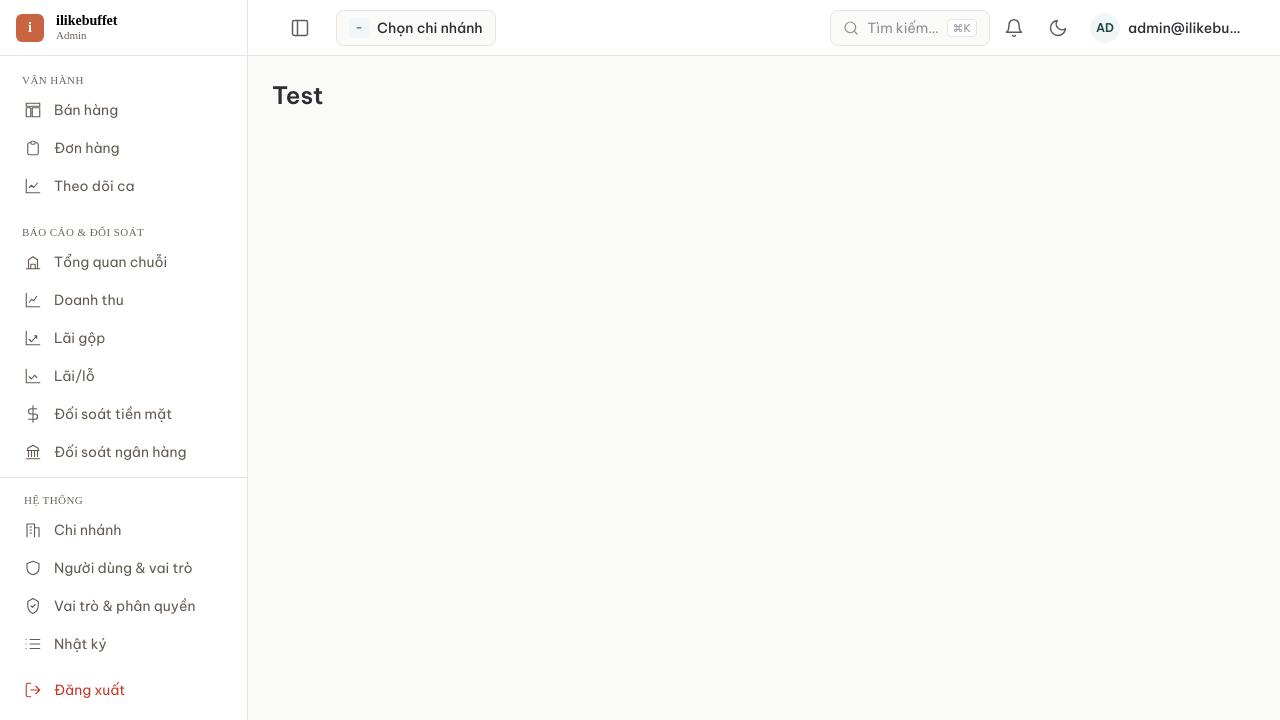
it: Notifications bell › closes on Esc
This screenshot has width=1280, height=720.
Step 1. Click the button named "Thông báo" → (1014, 28), box [994,8,1034,48]
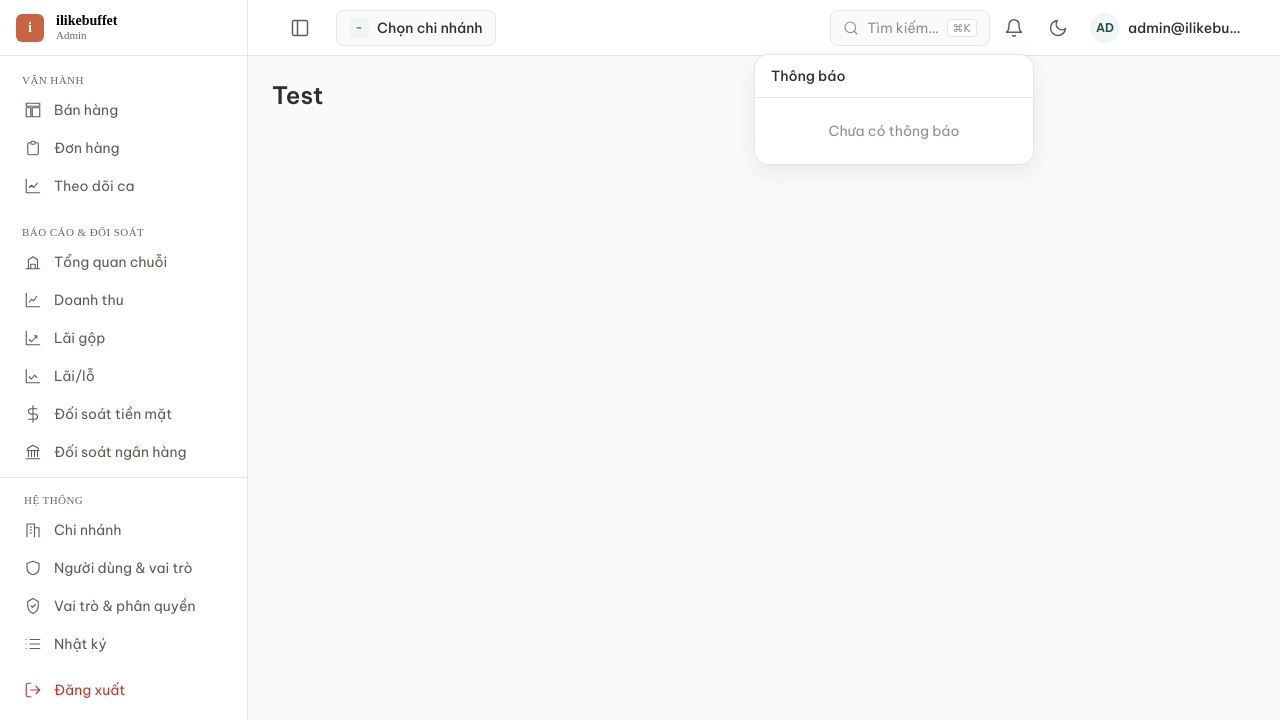
Now the dialog "Thông báo" is shown, box [754,54,1034,164]
Step 2. Press Escape
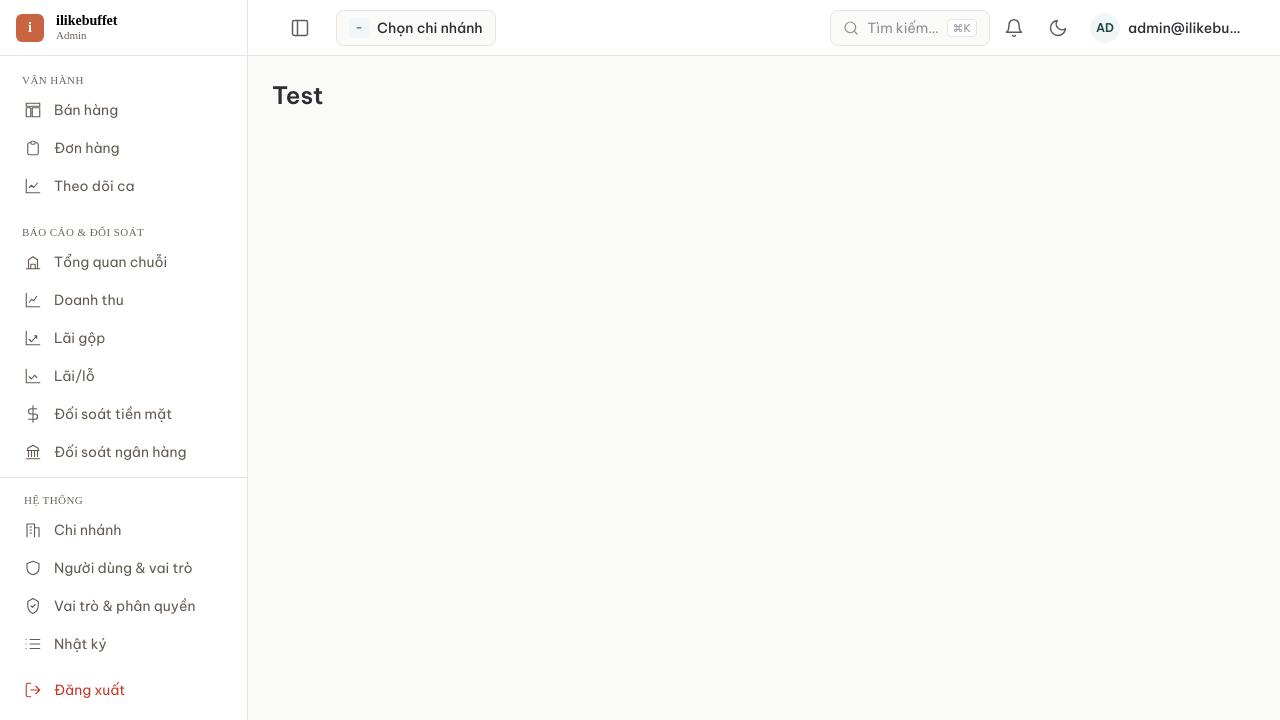
Now the text "Thông báo" is gone
